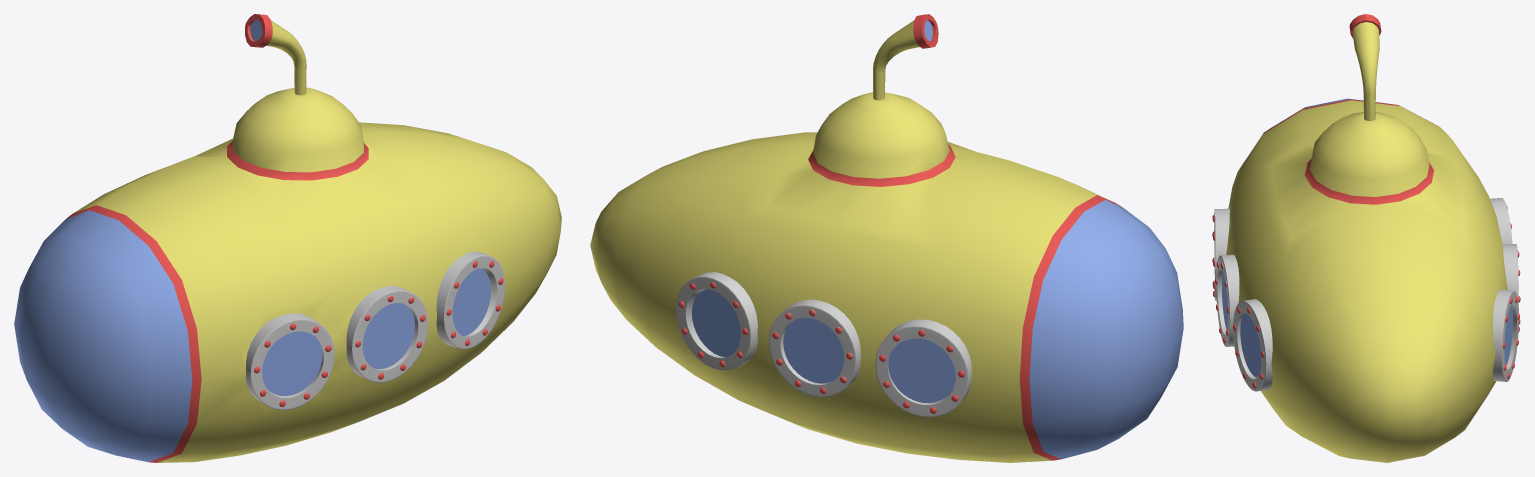
3 renders of one model, left to right at view 1: azimuth 30°, elevation 25°; view 2: azimuth 150°, elevation 25°; view 3: azimuth 270°, elevation 25°, orthographic. The views are drawn at different scales.
Parts seen in each view (by area): view 1: Cylinder.001; view 2: Cylinder.001; view 3: Cylinder.001.
Boxes of the visible parts, x1=… form: Cylinder.001: x1=14, y1=14, x2=561, y2=462; Cylinder.001: x1=590, y1=14, x2=1183, y2=462; Cylinder.001: x1=1212, y1=14, x2=1520, y2=462.
Size of the model in its own units: 1309 by 968 by 692.
